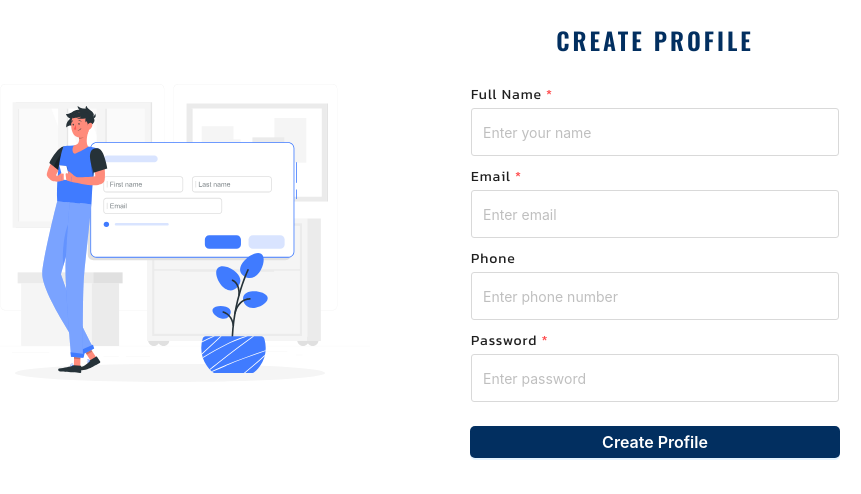
Test: ProfileForm Component › shows validation errors when submitting an empty form
Click the button "Create Profile". click: point(655, 442)
box: [470, 426, 840, 458]
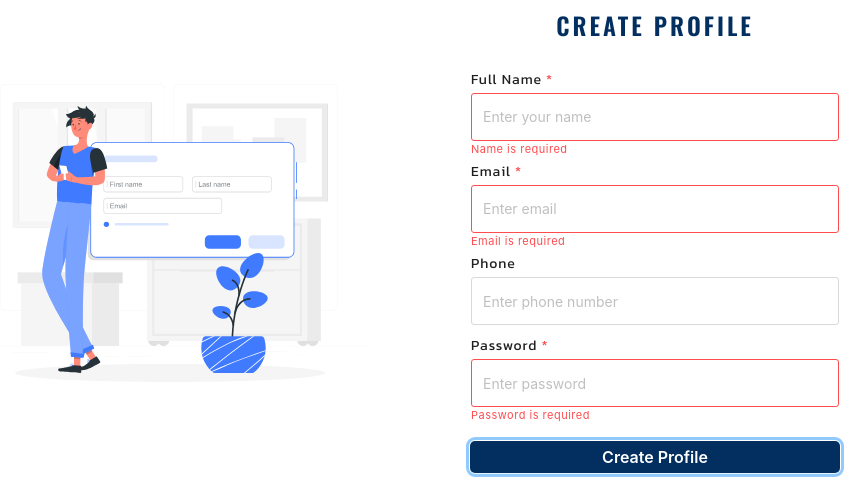
Check: the text "Name is required" is shown, box [471, 142, 568, 156]
Check: the text "Email is required" is shown, box [471, 234, 565, 248]
Check: the text "Password is required" is shown, box [471, 408, 590, 422]
